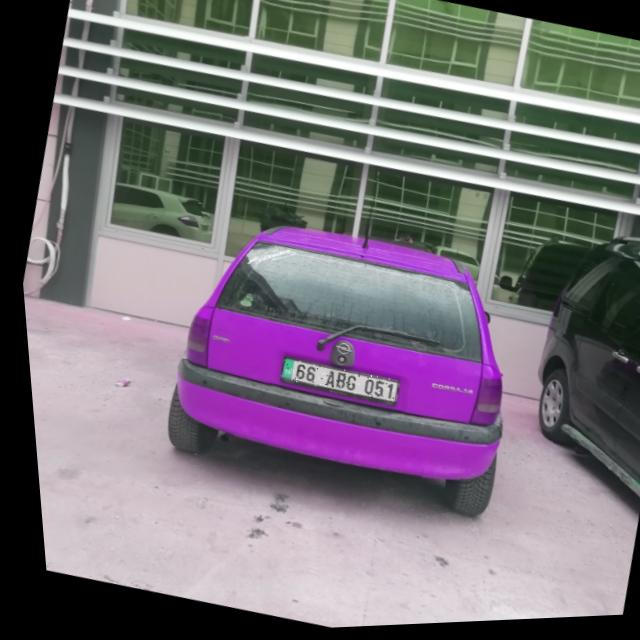license_plate: (273, 356, 392, 409)
